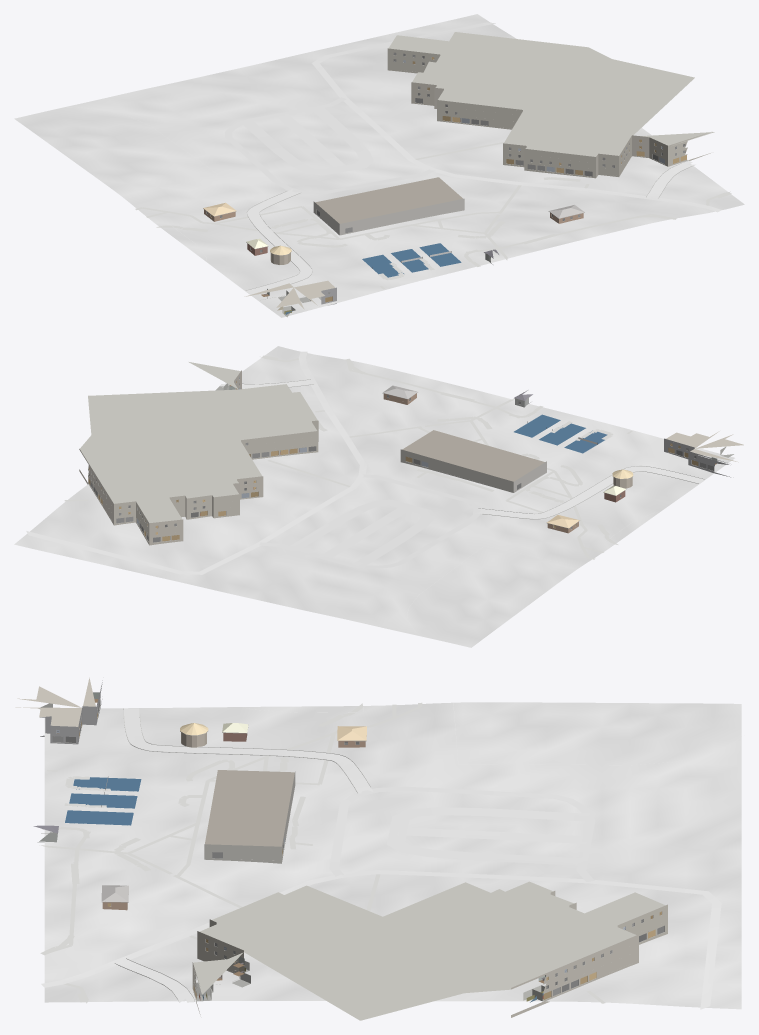
3 views of the same model, one above another, from view 1: azimuth 30°, elevation 25°; view 2: azimuth 150°, elevation 25°; view 3: azimuth 270°, elevation 25° (orthographic). The views are drawn at different scales.
Parts seen in each view (by area): view 1: ground, roof_flat, concrete, wall_com, walk, detail, roof, glass, wall, glass_lit; view 2: ground, roof_flat, concrete, wall_com, walk, detail, roof, glass_lit, glass, wall, curb; view 3: ground, roof_flat, concrete, wall_com, walk, detail, roof, room, wall, curb, glass.
Boxes of the visible parts, x1=… form: ground: x1=14, y1=14, x2=744, y2=317; roof_flat: x1=244, y1=32, x2=714, y2=309; concrete: x1=225, y1=22, x2=721, y2=294; wall_com: x1=313, y1=48, x2=710, y2=305; walk: x1=135, y1=142, x2=731, y2=289; detail: x1=203, y1=54, x2=685, y2=302; roof: x1=203, y1=202, x2=584, y2=258; glass: x1=206, y1=52, x2=684, y2=294; wall: x1=204, y1=209, x2=583, y2=264; glass_lit: x1=211, y1=57, x2=686, y2=302; ground: x1=14, y1=346, x2=734, y2=647; roof_flat: x1=80, y1=362, x2=743, y2=523; concrete: x1=26, y1=351, x2=704, y2=574; wall_com: x1=79, y1=370, x2=730, y2=545; walk: x1=64, y1=355, x2=632, y2=559; detail: x1=88, y1=377, x2=713, y2=542; roof: x1=382, y1=385, x2=633, y2=528; glass_lit: x1=88, y1=377, x2=698, y2=541; glass: x1=89, y1=384, x2=714, y2=542; wall: x1=383, y1=393, x2=632, y2=533; curb: x1=219, y1=379, x2=704, y2=519; ground: x1=44, y1=702, x2=741, y2=1009; roof_flat: x1=15, y1=677, x2=665, y2=1020; concrete: x1=41, y1=708, x2=721, y2=1009; wall_com: x1=40, y1=680, x2=667, y2=1017; walk: x1=39, y1=702, x2=605, y2=1003; detail: x1=41, y1=698, x2=664, y2=1000; roof: x1=33, y1=723, x2=366, y2=901; room: x1=39, y1=692, x2=662, y2=1002; wall: x1=102, y1=732, x2=365, y2=910; curb: x1=114, y1=708, x2=370, y2=1001; glass: x1=52, y1=701, x2=664, y2=995.
Size of the model in its own units: 300 by 14.13 by 262.
